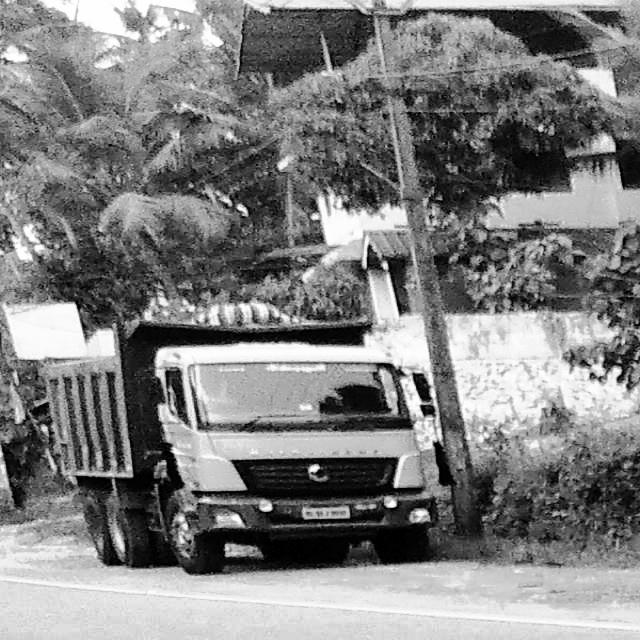HCV: (46, 334, 440, 590)
